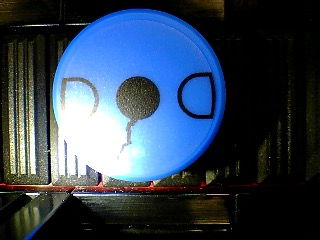CRACK: (51, 8, 227, 183)
